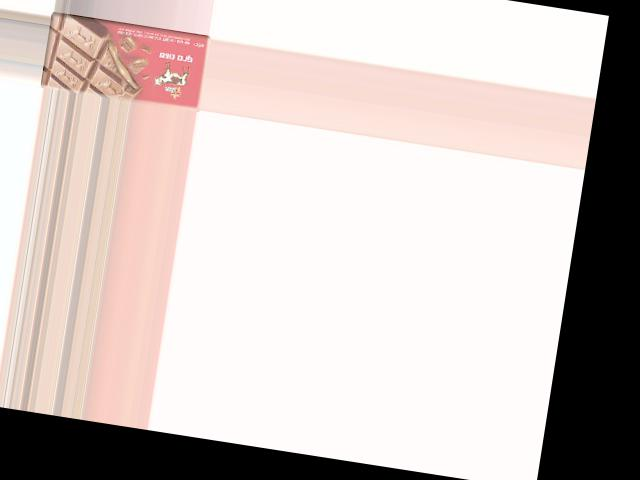chocolate: (42, 12, 211, 112)
